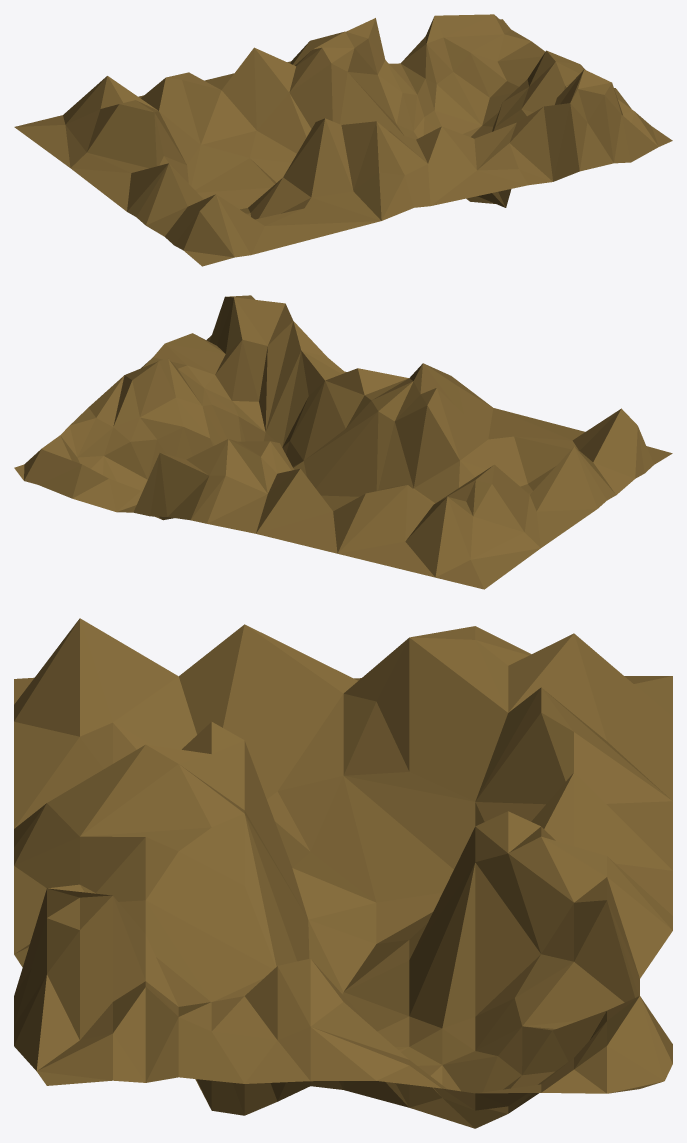
File: reeftype1_large.fbx
The picture shows the model from 3 angles, top to bottom: view 1: azimuth 30°, elevation 25°; view 2: azimuth 150°, elevation 25°; view 3: azimuth 270°, elevation 25°; orthographic projection. The views are drawn at different scales.
Visible parts, largest first — view 1: reef5; view 2: reef5; view 3: reef5.
Boxes of the visible parts, x1,y1,x2,y2 form: reef5: (14,14,672,266); reef5: (14,295,672,589); reef5: (14,618,672,1128).
Bounding box in the file's own units: 16.68 × 5 × 11.33.
